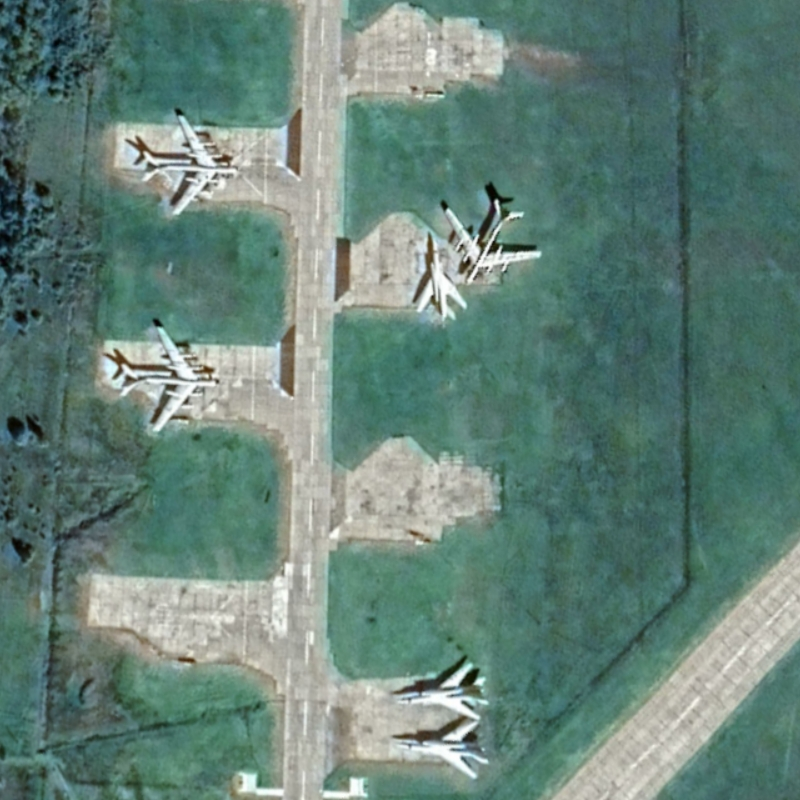A12: (395, 661, 491, 722), (394, 720, 490, 781), (412, 238, 469, 322)
A17: (118, 324, 220, 434), (139, 113, 241, 216), (442, 197, 543, 286)
